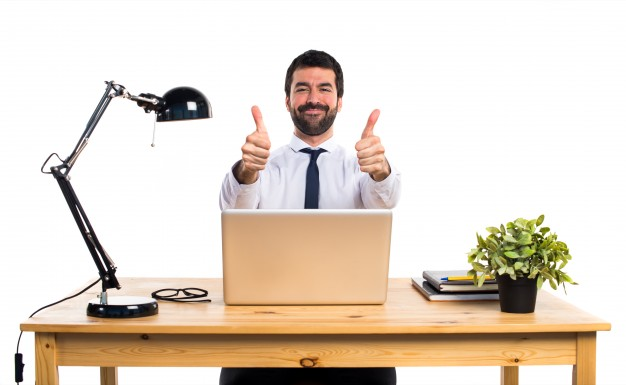thumbsup: (355, 109, 385, 173), (241, 105, 270, 171)
